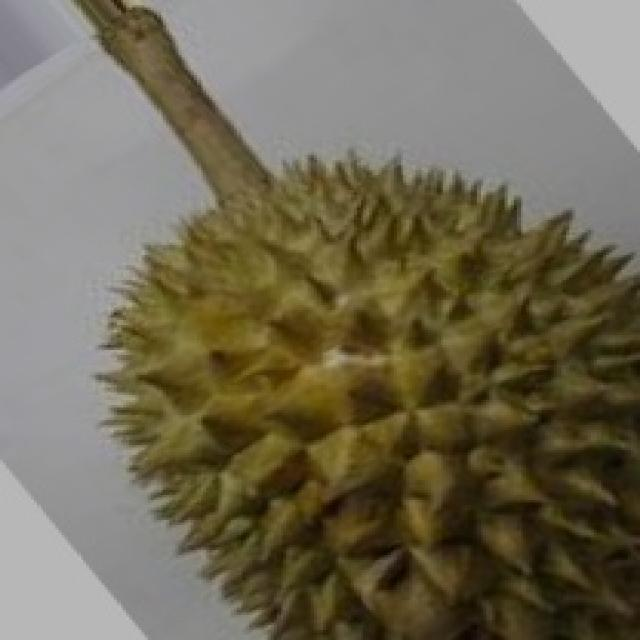fruit: (49, 277, 443, 640)
